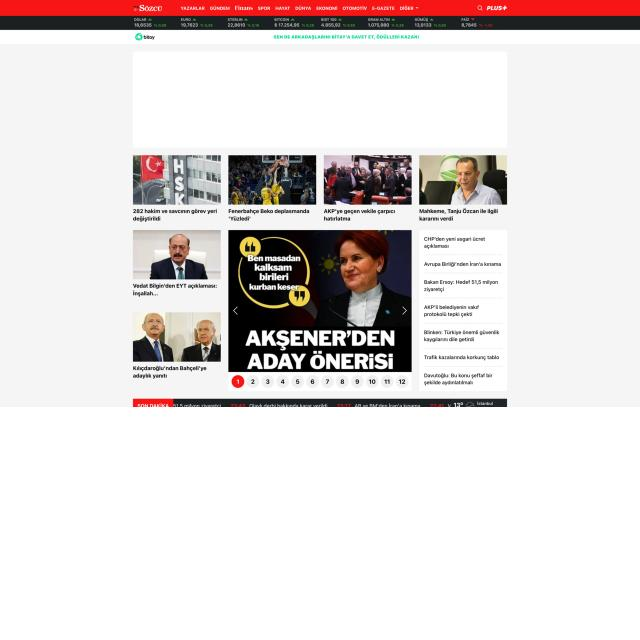logo: (132, 4, 163, 12)
navigation: (180, 5, 420, 12)
